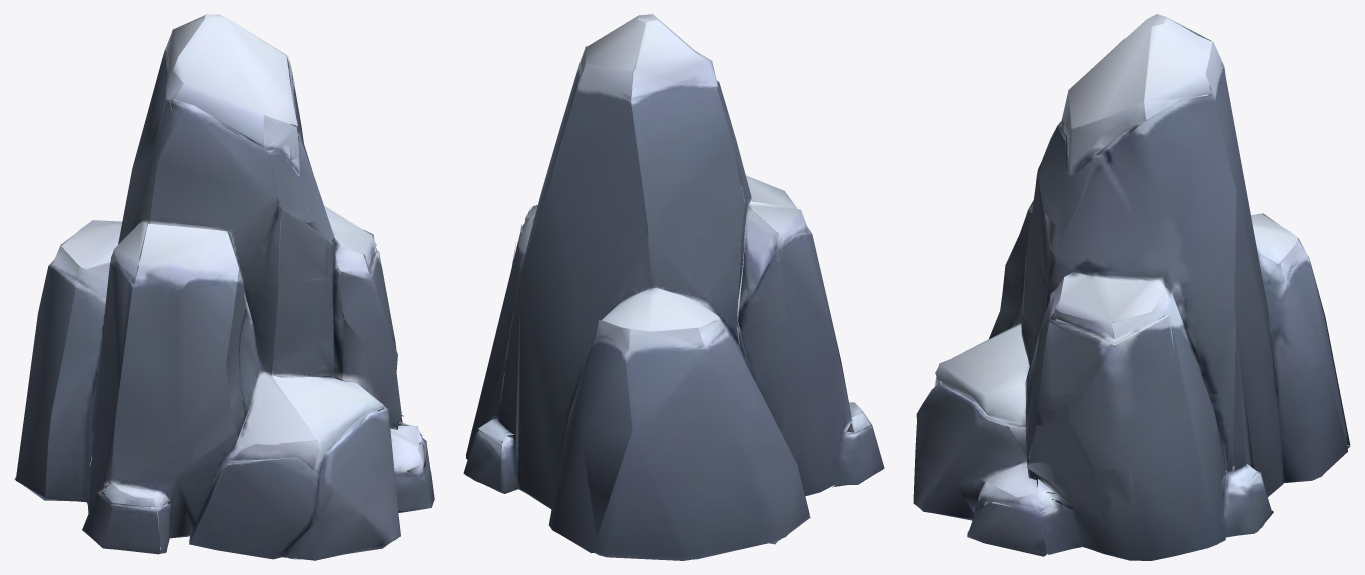
The model's file is rock_gen_a.glb.
3 views of the same model, side by side, from view 1: azimuth 30°, elevation 25°; view 2: azimuth 150°, elevation 25°; view 3: azimuth 270°, elevation 25° (orthographic).
Visible parts, largest first — view 1: rock_gen; view 2: rock_gen; view 3: rock_gen.
Boxes of the visible parts, left/top/right/bottom form: rock_gen: left=14, top=14, right=434, bottom=560; rock_gen: left=463, top=14, right=884, bottom=560; rock_gen: left=913, top=14, right=1350, bottom=560.
Bounding box in the file's own units: 1.92 × 2.4 × 2.07.
Materials: 1 (1 with a texture image).
